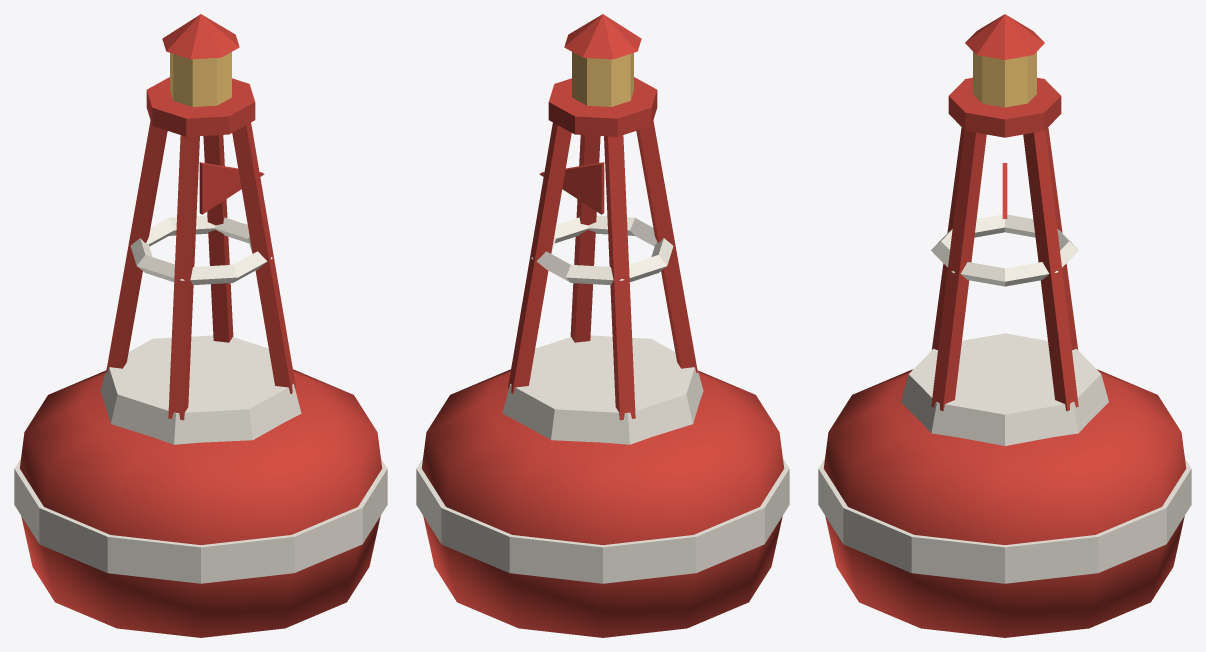
The model's file is buoy.glb.
The picture shows the model from 3 angles, left to right: view 1: azimuth 30°, elevation 25°; view 2: azimuth 150°, elevation 25°; view 3: azimuth 270°, elevation 25°; orthographic projection.
Parts seen in each view (by area): view 1: buoy; view 2: buoy; view 3: buoy.
Boxes of the visible parts, x1,y1,x2,y2 form: buoy: (14, 14, 387, 637); buoy: (416, 14, 789, 637); buoy: (818, 14, 1191, 637).
Size of the model in its own units: 0.93 by 1.52 by 0.93.
